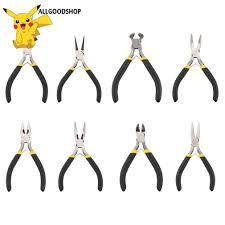pliers: (56, 119, 103, 191), (170, 32, 219, 101), (117, 121, 163, 192), (55, 33, 101, 101), (174, 121, 216, 191), (4, 120, 45, 191)
